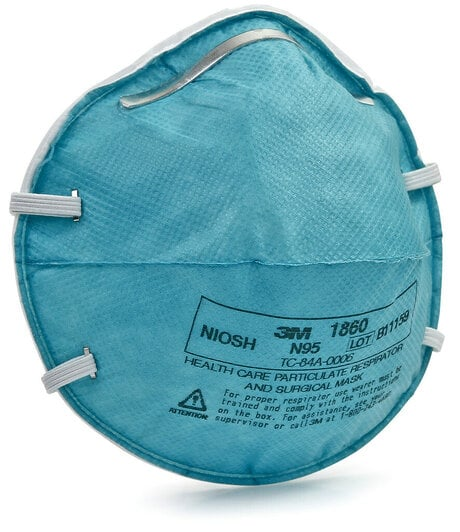Mask: (12, 1, 448, 489)
